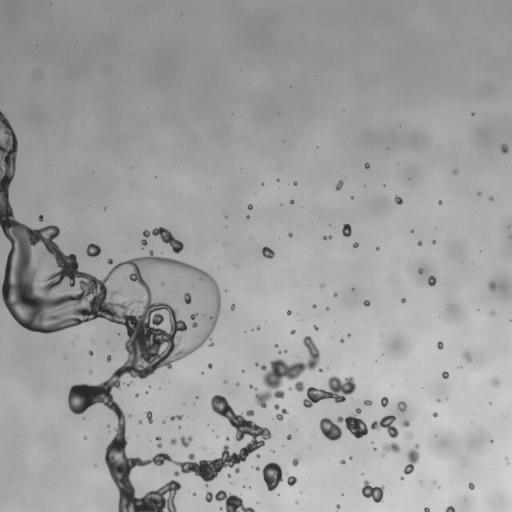droplet: (319, 408, 368, 441), (254, 462, 283, 491), (370, 415, 398, 438), (362, 480, 384, 502), (178, 284, 196, 306), (382, 442, 400, 456), (86, 243, 100, 257), (285, 472, 296, 486), (262, 246, 274, 258), (276, 408, 287, 420), (180, 436, 192, 447), (342, 224, 351, 236), (397, 401, 406, 411), (428, 276, 436, 286), (463, 351, 471, 361), (394, 195, 402, 204), (488, 281, 496, 290), (146, 411, 152, 423), (292, 457, 300, 466), (336, 180, 343, 190), (381, 397, 388, 407), (501, 144, 508, 153), (492, 378, 499, 386), (401, 419, 409, 426), (442, 371, 449, 378), (437, 341, 443, 349), (363, 300, 370, 306), (406, 432, 412, 439), (468, 482, 474, 489), (170, 438, 176, 444), (364, 400, 371, 405), (107, 258, 112, 264), (106, 355, 111, 361), (364, 163, 369, 168), (452, 169, 457, 174), (353, 242, 358, 247), (160, 281, 165, 286), (490, 310, 495, 315), (313, 325, 318, 330), (274, 404, 279, 409), (248, 204, 252, 209), (287, 310, 291, 315), (290, 330, 295, 334), (208, 363, 212, 368), (433, 412, 437, 417), (235, 468, 239, 473), (336, 504, 340, 509), (424, 507, 429, 511), (293, 181, 297, 185), (489, 196, 493, 200), (290, 199, 294, 203), (438, 200, 442, 204), (288, 233, 292, 237), (417, 241, 421, 245), (418, 269, 422, 273), (320, 283, 324, 287), (401, 298, 405, 302), (312, 304, 316, 308), (256, 326, 260, 330), (254, 362, 258, 366), (318, 368, 322, 372), (287, 435, 291, 439), (256, 454, 260, 458), (39, 215, 42, 220), (477, 192, 481, 195), (432, 240, 435, 244), (334, 293, 337, 297), (231, 305, 234, 309), (326, 306, 329, 310), (89, 351, 92, 355), (340, 460, 344, 463), (246, 215, 249, 218), (411, 229, 414, 232), (347, 333, 350, 336), (340, 339, 343, 342), (89, 370, 92, 373), (236, 382, 239, 385), (135, 393, 138, 396), (437, 399, 440, 402), (226, 437, 229, 440), (349, 456, 352, 459), (400, 476, 403, 479), (433, 481, 436, 484), (193, 492, 196, 495), (295, 501, 298, 504), (509, 235, 511, 239), (351, 196, 353, 199), (376, 247, 379, 249), (275, 344, 277, 347), (278, 351, 281, 353), (284, 350, 287, 352), (241, 370, 244, 372), (224, 380, 226, 383), (139, 420, 141, 423), (219, 507, 222, 509), (472, 113, 474, 115), (92, 340, 94, 342), (128, 383, 130, 385), (129, 414, 131, 416), (178, 426, 180, 428), (491, 440, 493, 442), (374, 448, 376, 450), (271, 450, 273, 452), (228, 474, 230, 476), (437, 486, 439, 488)
ligament: (0, 111, 270, 511), (255, 336, 319, 407), (302, 376, 355, 407), (141, 227, 183, 253), (205, 490, 255, 511), (404, 444, 419, 474), (156, 436, 162, 447), (170, 415, 182, 420), (444, 506, 455, 511), (322, 235, 331, 239), (249, 385, 256, 390), (178, 280, 184, 284)
